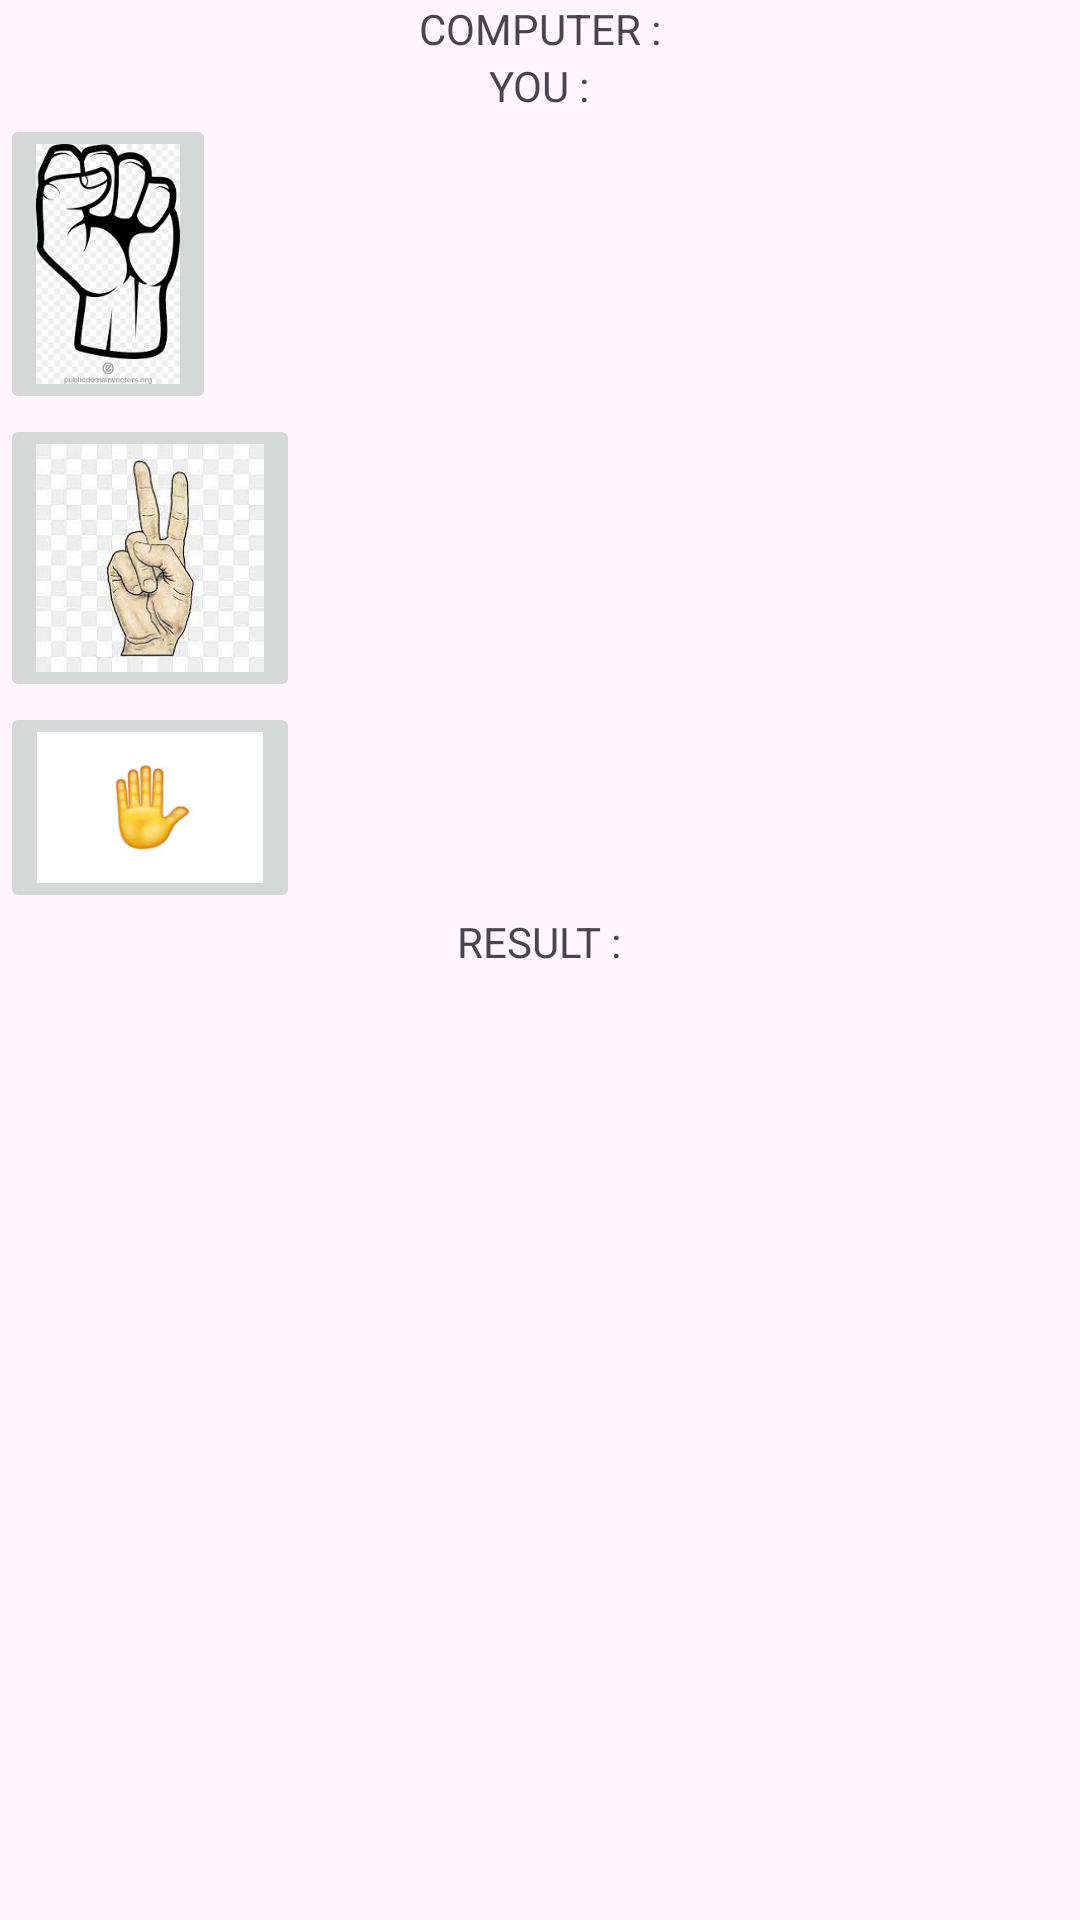

Icons on this 1080x1920 Android screen, each with its box as (x1, y1, x2, y2):
paper: (12, 720, 288, 895)
rock: (12, 132, 204, 396)
scissors: (12, 432, 288, 684)
